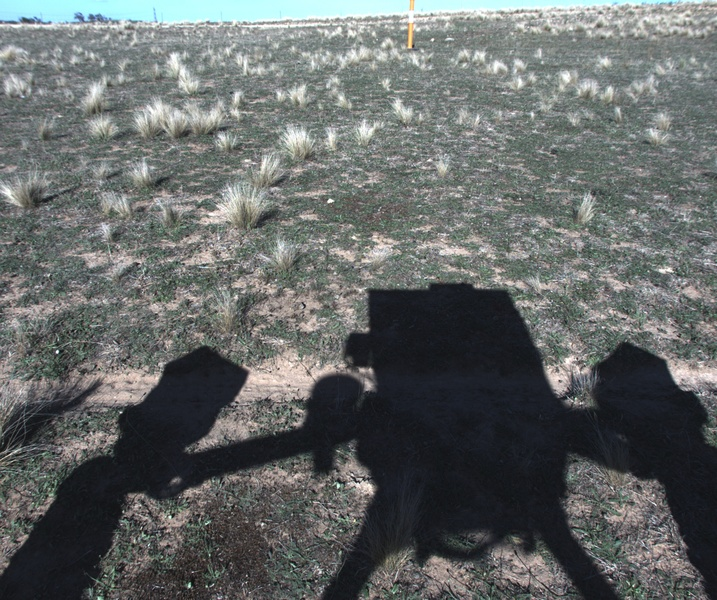st: (341, 480, 429, 585), (1, 394, 55, 485), (591, 415, 644, 493), (196, 287, 252, 337), (221, 186, 265, 233), (1, 170, 49, 213), (253, 152, 287, 199), (149, 200, 189, 233), (268, 240, 303, 275), (81, 81, 114, 118), (127, 159, 163, 191), (279, 129, 317, 159), (571, 192, 600, 231), (102, 189, 133, 225), (133, 105, 163, 141), (2, 75, 42, 102), (388, 96, 416, 127), (628, 70, 655, 101), (503, 64, 533, 91), (90, 117, 124, 140), (191, 107, 224, 130), (283, 83, 312, 108), (355, 115, 377, 146), (578, 80, 602, 108), (177, 66, 198, 97), (229, 92, 248, 125), (553, 69, 579, 91), (168, 107, 185, 140), (1, 43, 32, 60), (431, 150, 449, 179), (328, 126, 346, 154), (37, 117, 57, 142), (646, 126, 666, 150), (332, 91, 355, 111), (487, 56, 506, 80), (649, 109, 671, 129), (165, 50, 179, 76), (217, 132, 236, 150), (468, 114, 485, 132), (613, 104, 627, 123), (453, 108, 468, 125), (597, 83, 616, 96), (510, 61, 523, 75)
